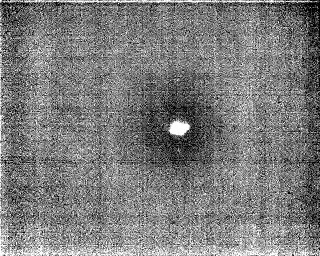AIRPLANE: (166, 116, 192, 139)
